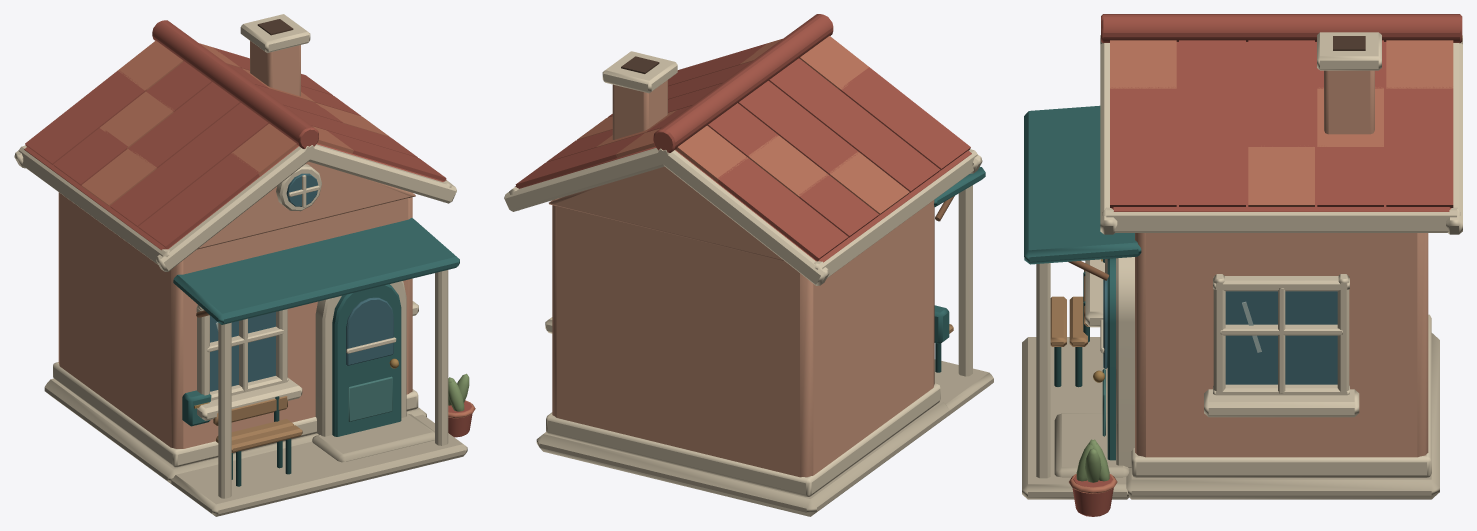
The model's file is house_level_2.glb.
The picture shows the model from 3 angles, left to right: view 1: azimuth 30°, elevation 25°; view 2: azimuth 150°, elevation 25°; view 3: azimuth 270°, elevation 25°; orthographic projection. The views are drawn at different scales.
Visible parts, largest first — view 1: house_level_2_runtime; view 2: house_level_2_runtime; view 3: house_level_2_runtime.
Boxes of the visible parts, box(x1,y1,x2,y2) form: house_level_2_runtime: box(14, 14, 475, 516); house_level_2_runtime: box(504, 14, 993, 516); house_level_2_runtime: box(1022, 14, 1462, 516).
Bounding box in the file's own units: 3.33 × 3.58 × 3.38.
